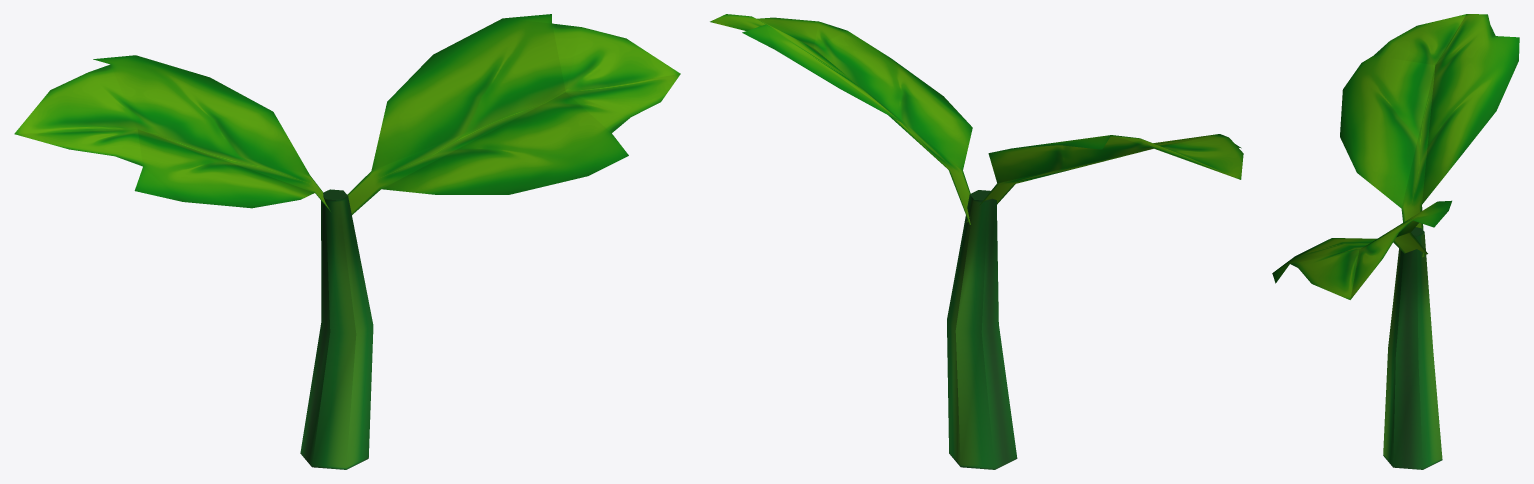
File: level_1.glb
The picture shows the model from 3 angles, left to right: view 1: azimuth 30°, elevation 25°; view 2: azimuth 150°, elevation 25°; view 3: azimuth 270°, elevation 25°; orthographic projection. The views are drawn at different scales.
Parts seen in each view (by area): view 1: SM_Tomato_Lv1_Tomato_SG_0; view 2: SM_Tomato_Lv1_Tomato_SG_0; view 3: SM_Tomato_Lv1_Tomato_SG_0.
Part boxes in pixels (x1=…): SM_Tomato_Lv1_Tomato_SG_0: x1=14, y1=14, x2=680, y2=469; SM_Tomato_Lv1_Tomato_SG_0: x1=710, y1=14, x2=1243, y2=469; SM_Tomato_Lv1_Tomato_SG_0: x1=1272, y1=14, x2=1519, y2=469.
Size of the model in its own units: 24.38 by 15.55 by 10.02.
Materials: 1 (1 with a texture image).
